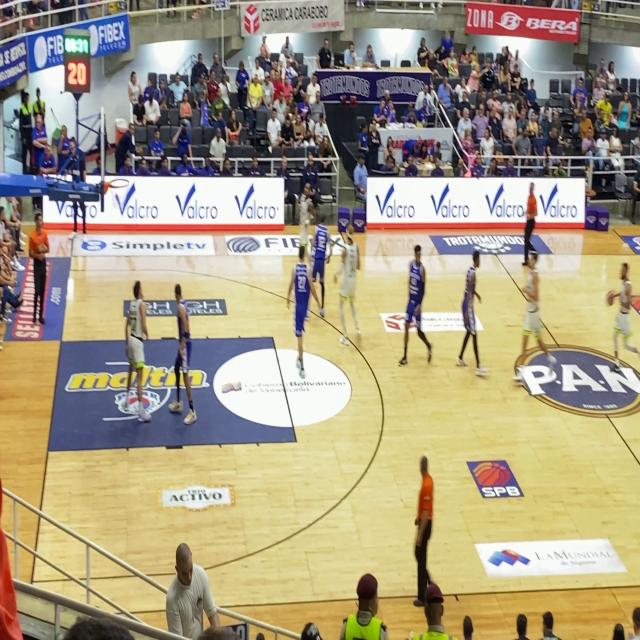Ball: (606, 291, 617, 312)
referee: (403, 433, 440, 594), (27, 200, 56, 327), (516, 170, 545, 258)
team1: (511, 243, 556, 381), (116, 267, 155, 421), (332, 210, 367, 346), (603, 248, 640, 374), (292, 173, 315, 249)
team2: (392, 238, 437, 379), (160, 272, 201, 426), (287, 242, 312, 378), (459, 234, 481, 384), (314, 208, 332, 318)
ubasket: (108, 171, 132, 194)
